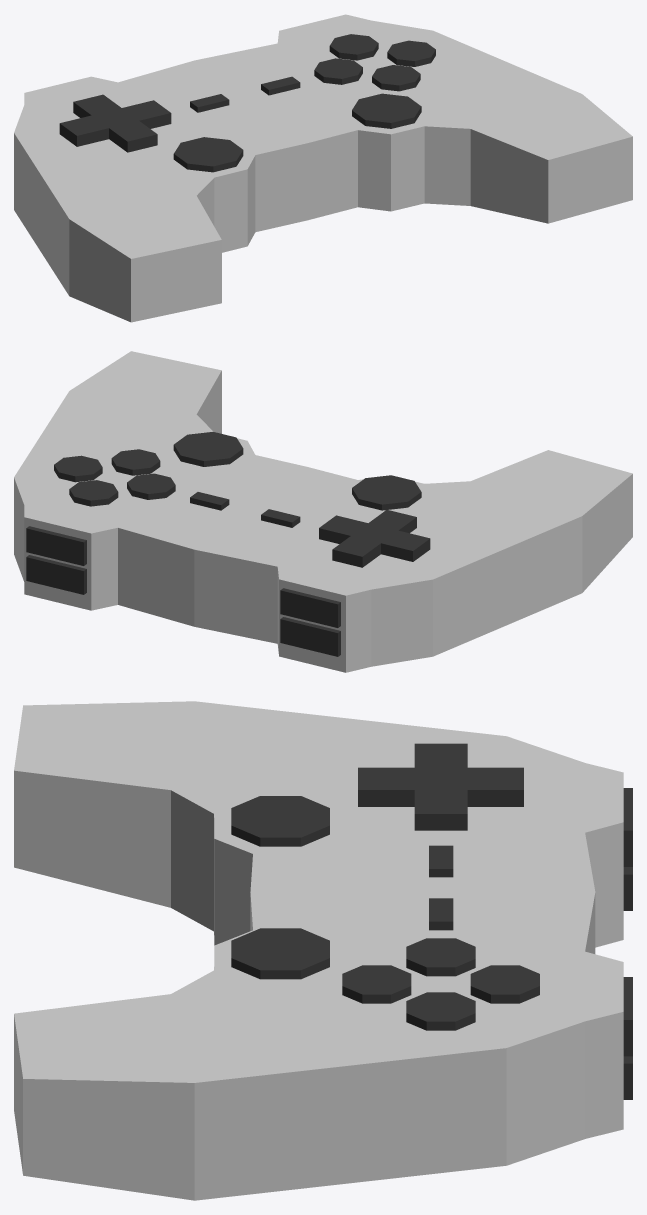
The model's file is SM_Props_GameConsole_04.fbx.
3 views of the same model, one above another, from view 1: azimuth 30°, elevation 25°; view 2: azimuth 150°, elevation 25°; view 3: azimuth 270°, elevation 25° (orthographic). The views are drawn at different scales.
Parts seen in each view (by area): view 1: SM_Props_GameConsole_04; view 2: SM_Props_GameConsole_04; view 3: SM_Props_GameConsole_04.
Part boxes in pixels (<box>): SM_Props_GameConsole_04: <box>14,14,632,322</box>; SM_Props_GameConsole_04: <box>14,351,632,672</box>; SM_Props_GameConsole_04: <box>14,701,632,1200</box>.
Bounding box in the file's own units: 0.219 × 0.036 × 0.1501.
